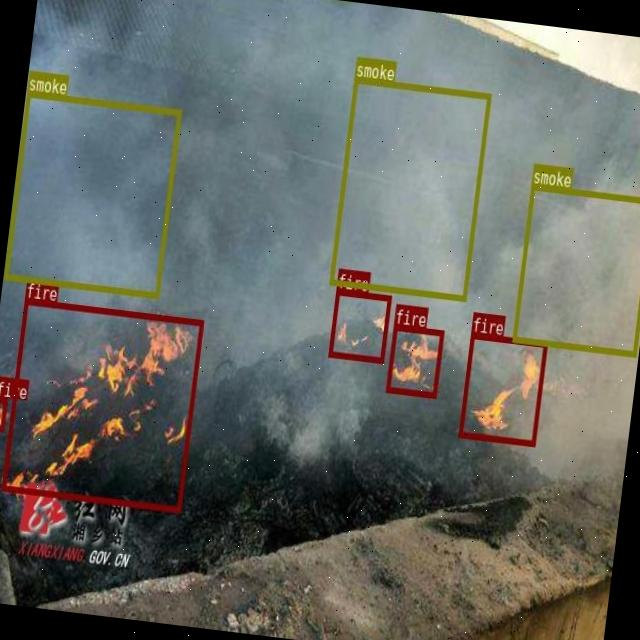fire: (1, 297, 203, 511), (458, 332, 547, 446), (326, 288, 391, 362), (385, 322, 443, 397), (0, 396, 6, 430)
smoke: (3, 90, 180, 297), (328, 77, 490, 300), (511, 183, 640, 355)
